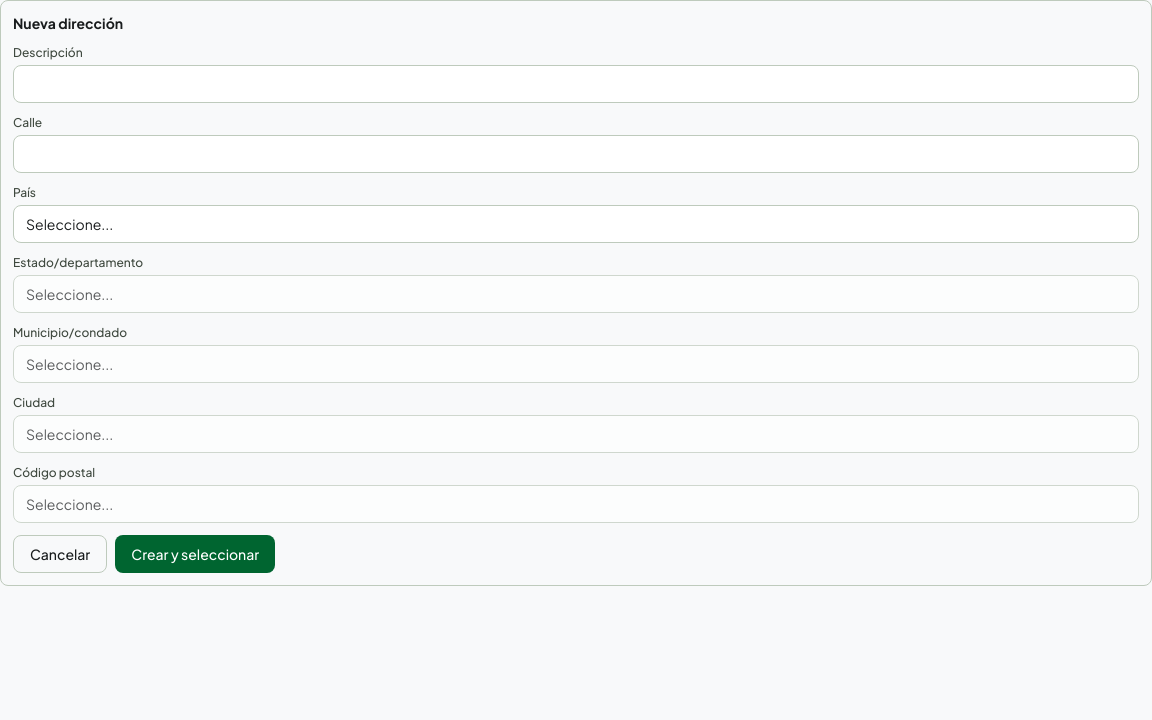
Scenario: NewAddressForm › requires country/description/street/zip before submitting and enables each level in sequence
Expected: the dropdown labelled "Código postal" is disabled, x1=13 y1=485 x2=1139 y2=523
Click the button "Crear y seleccionar". click: click(195, 554)
box: x1=115 y1=535 x2=275 y2=573
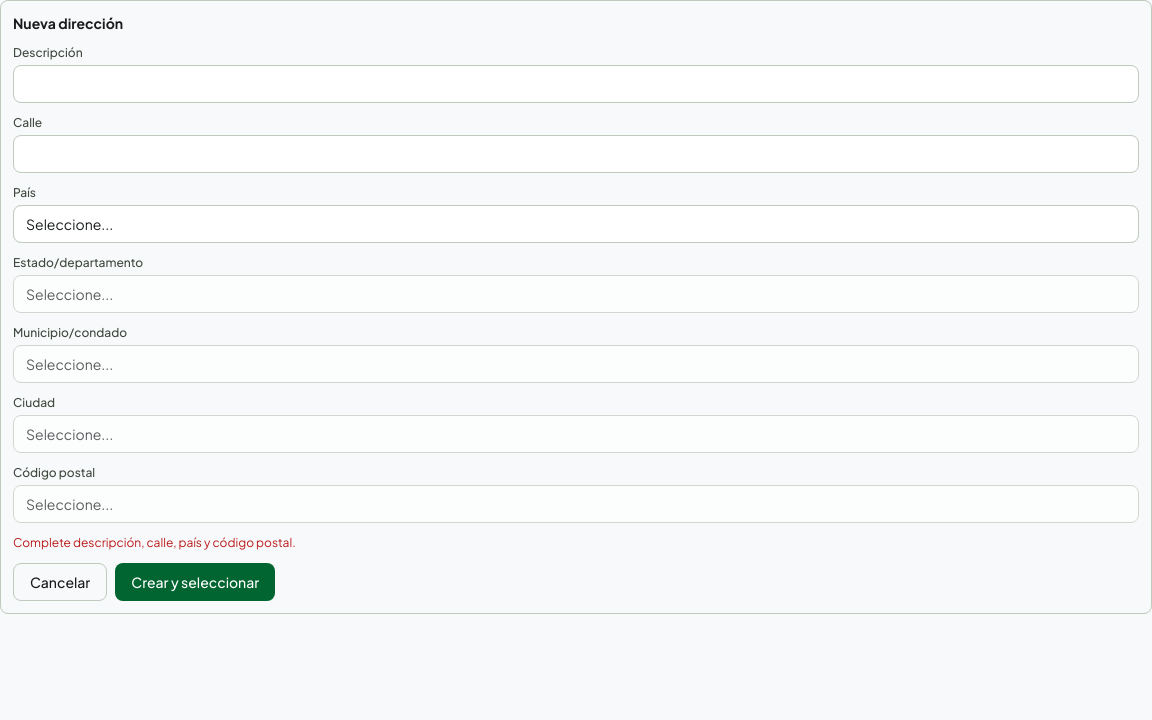
Now the message reads "Complete descripción, calle, país y código postal.", box x1=13 y1=535 x2=296 y2=550
Select "GTM · GTM" in the dropdown labelled "País". click: (576, 224)
box: x1=13 y1=205 x2=1139 y2=243
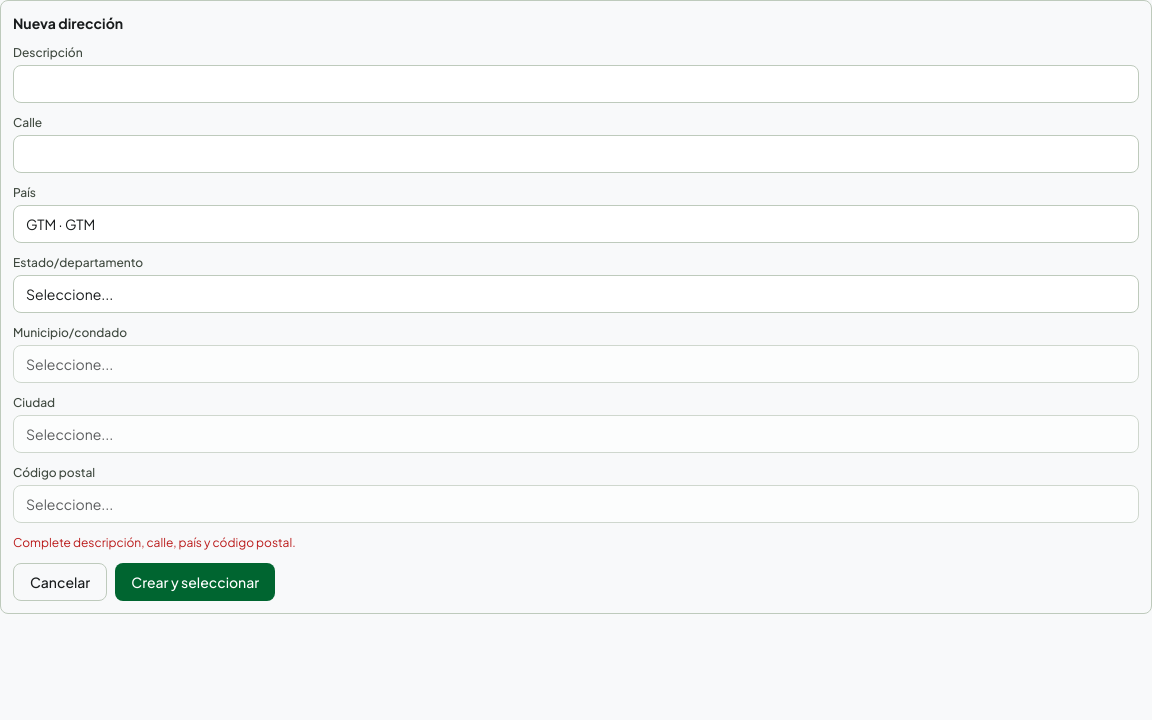
Now the dropdown labelled "Estado/departamento" is enabled
Select "01 · 01" in the dropdown labelled "Estado/departamento". click: (576, 294)
box: x1=13 y1=275 x2=1139 y2=313
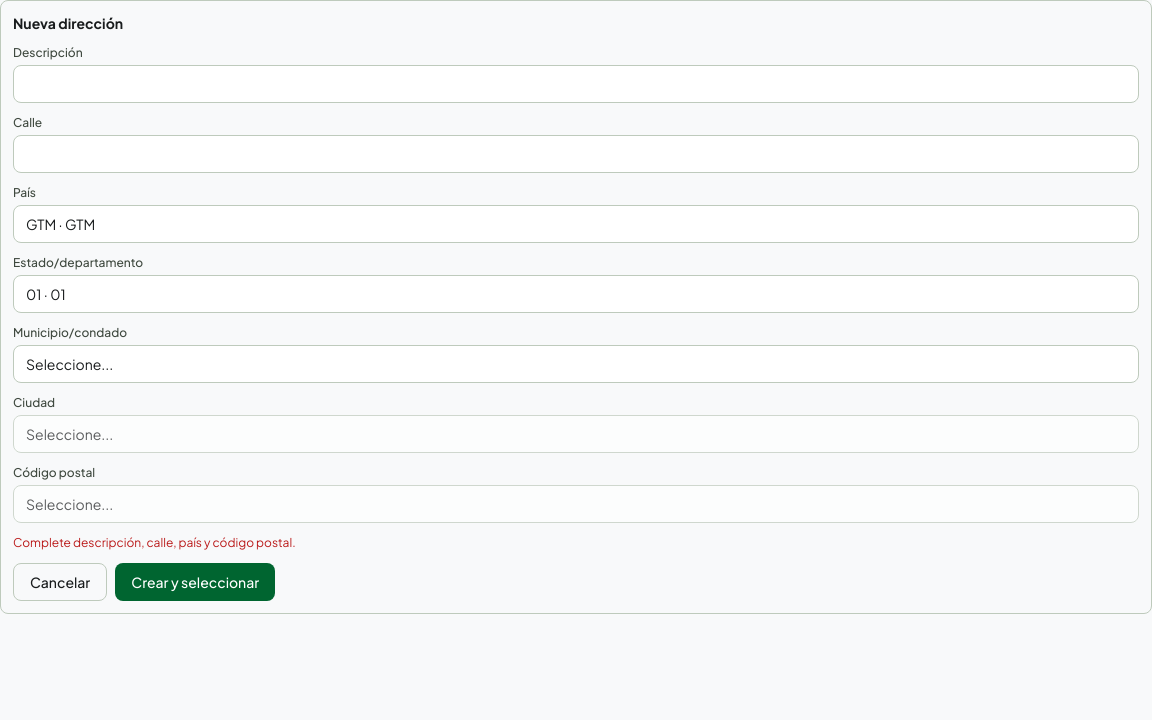
Now the dropdown labelled "Municipio/condado" is enabled
Select "0101 · 0101" in the dropdown labelled "Municipio/condado". click: (576, 364)
box: x1=13 y1=345 x2=1139 y2=383
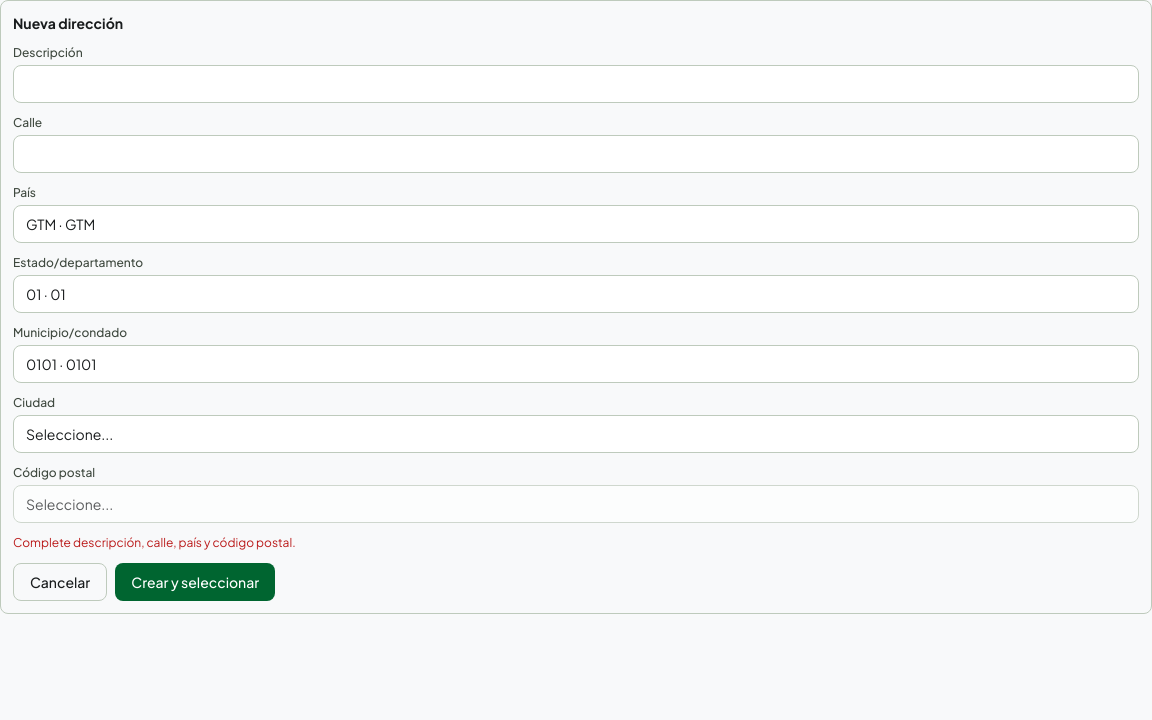
Now the dropdown labelled "Ciudad" is enabled
Select "GUA" in the dropdown labelled "Ciudad". click: (576, 434)
box: x1=13 y1=415 x2=1139 y2=453
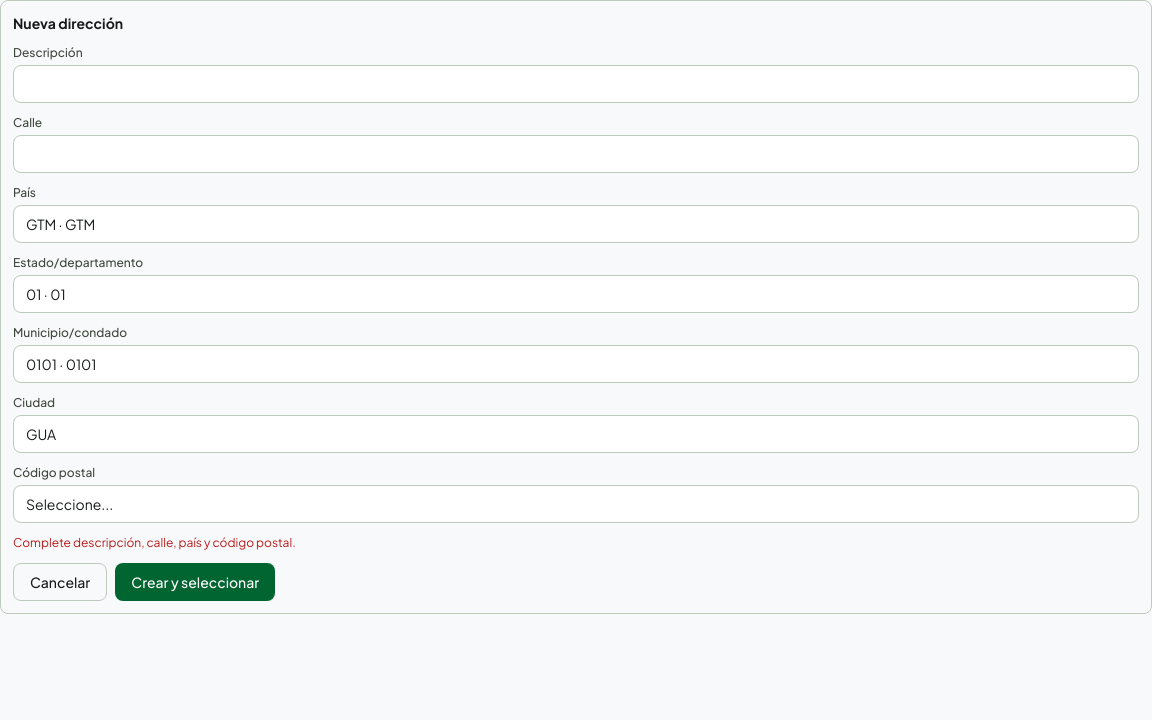
Now the dropdown labelled "Código postal" is enabled, box x1=13 y1=485 x2=1139 y2=523
